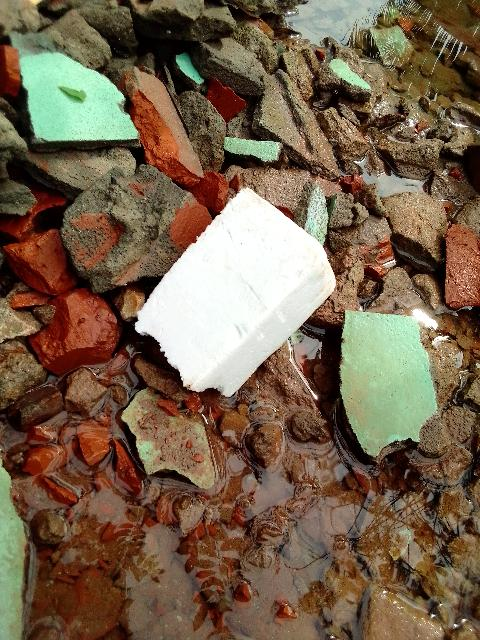cocksheet: (121, 190, 340, 410)
